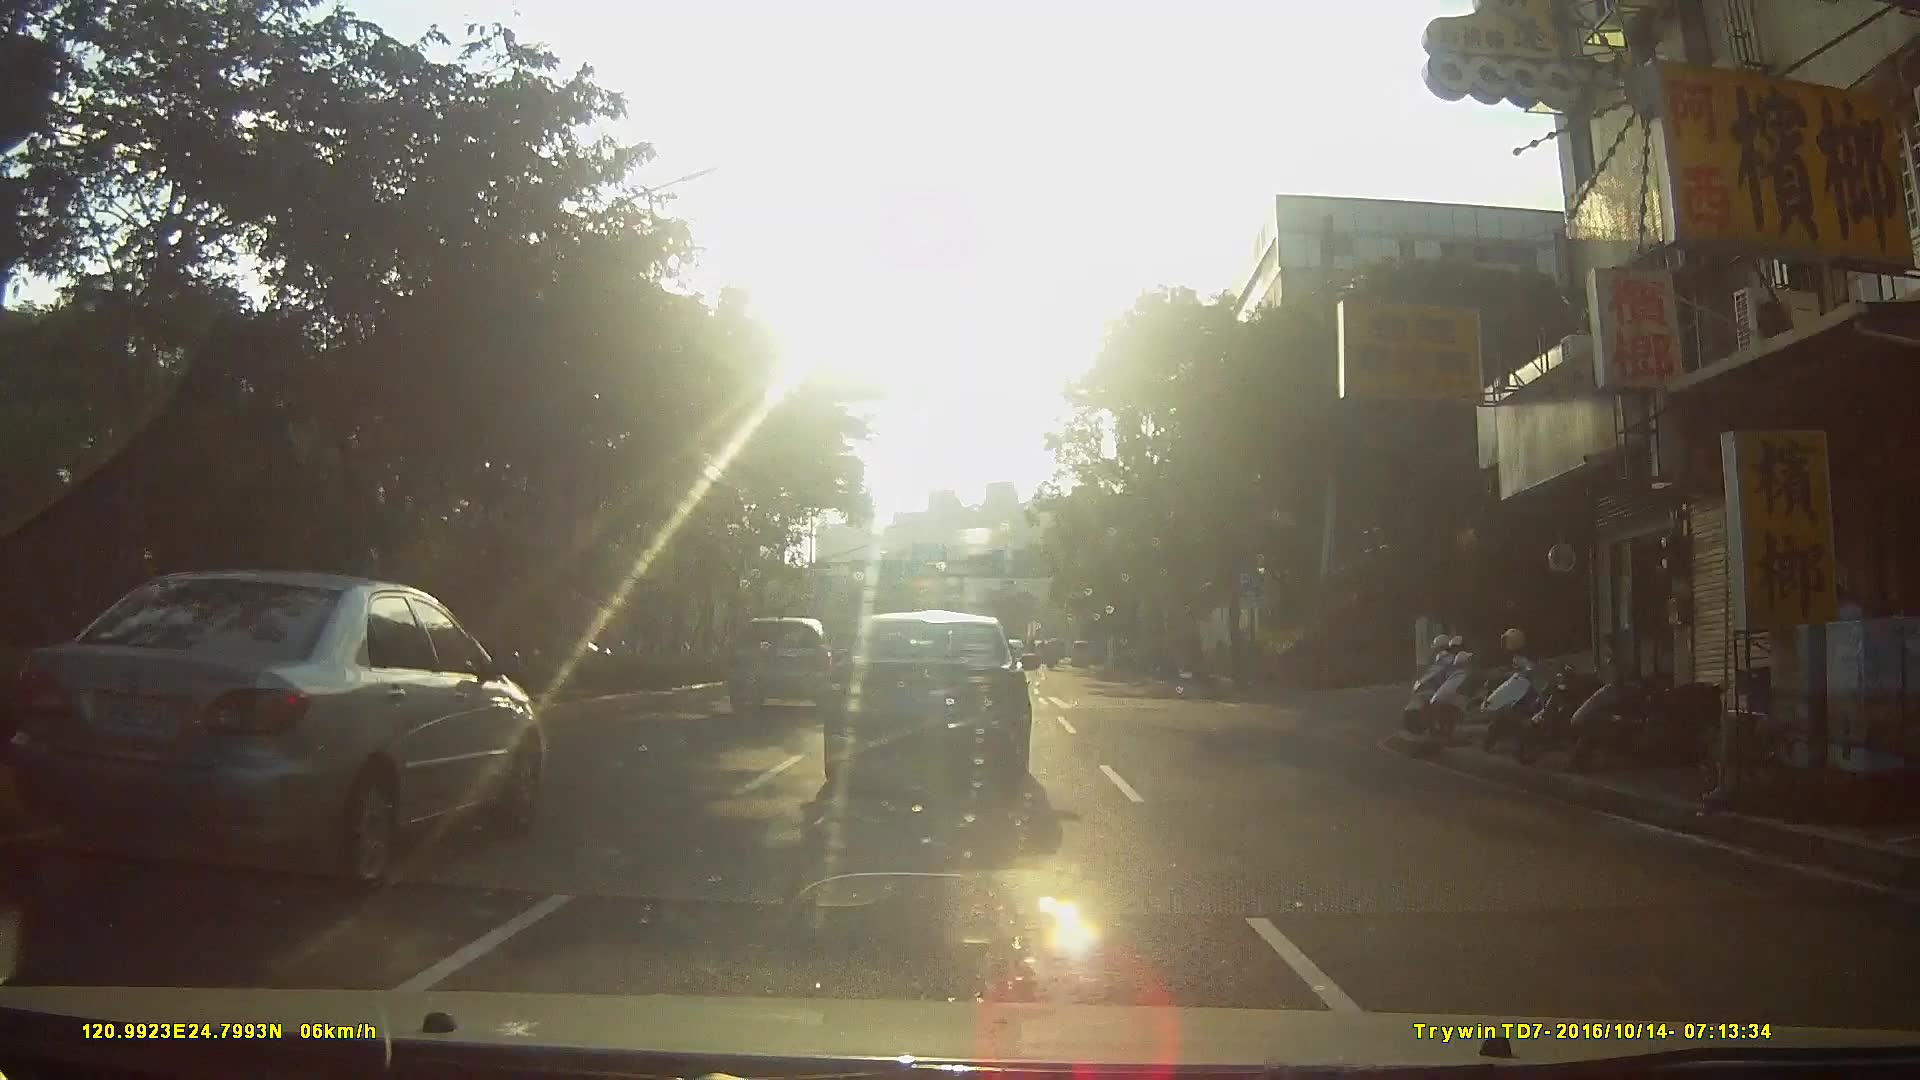vehicle: (7, 568, 560, 893), (828, 611, 1054, 804), (731, 615, 843, 708), (1067, 636, 1101, 665)
